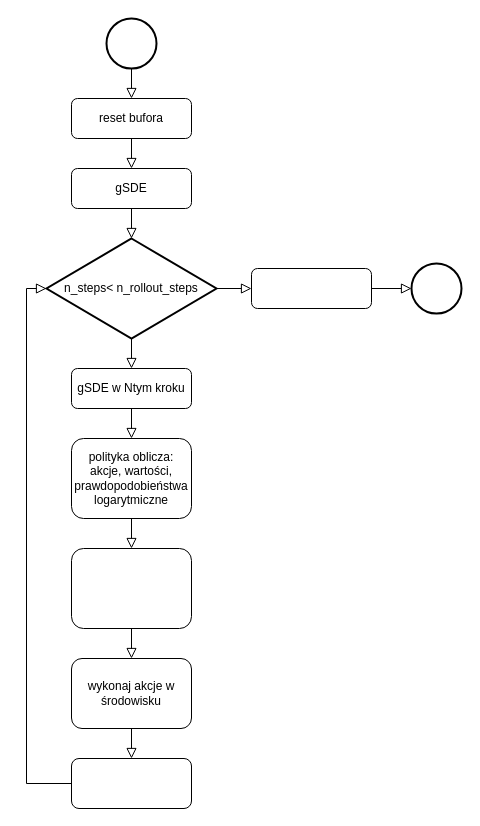
The diagram is 480 pixels wide and 826 high, and some of its shapes have lost their labels. The shapes that lost their labels are listed below. From the top down, each one's centre as x and y in pixels, then its label:
At (311,288): "oblicz zwroty i przewagi".
At (131,588): "reskaluj akcje z [-1, 1] do [low, high] środowiska".
At (131,783): "Dodaj nowe dane do bufora".
